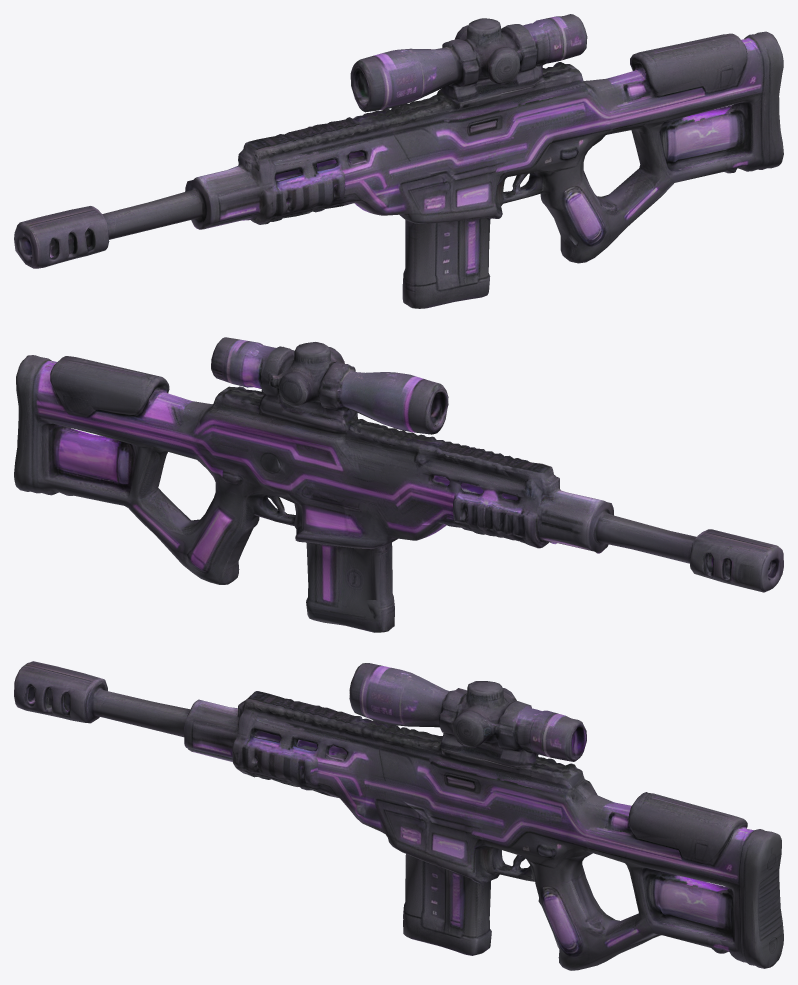
The model's file is Railgun.fbx.
3 renders of one model, top to bottom at view 1: azimuth 30°, elevation 25°; view 2: azimuth 150°, elevation 25°; view 3: azimuth 330°, elevation 25°, orthographic.
Visible parts, largest first — view 1: Mesh_0; view 2: Mesh_0; view 3: Mesh_0.
Part boxes in pixels (left/top/right/bottom): Mesh_0: left=14, top=14, right=783, bottom=308; Mesh_0: left=14, top=337, right=783, bottom=632; Mesh_0: left=14, top=661, right=783, bottom=970.
Bounding box in the file's own units: 200 × 67.87 × 18.89.
Materials: 1 (1 with a texture image).
